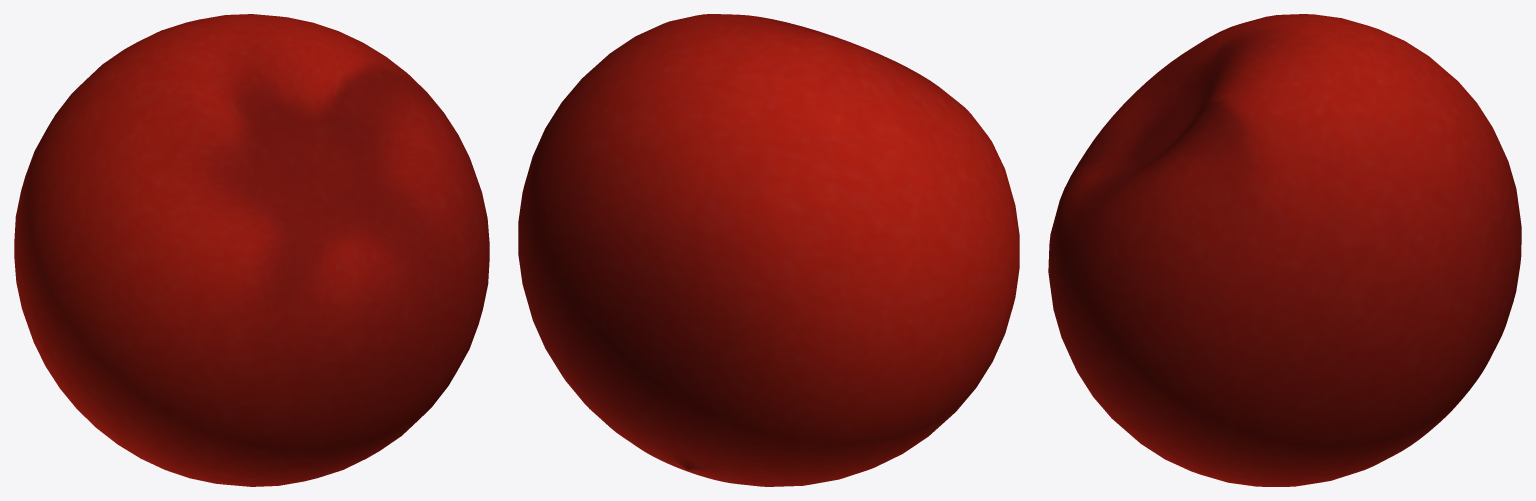
Rendered from tomato_04.obj.
3 renders of one model, left to right at view 1: azimuth 30°, elevation 25°; view 2: azimuth 150°, elevation 25°; view 3: azimuth 270°, elevation 25°, orthographic. The views are drawn at different scales.
Parts seen in each view (by area): view 1: tomato_04; view 2: tomato_04; view 3: tomato_04.
Boxes of the visible parts, <box> form: tomato_04: <box>14,14,489,486</box>; tomato_04: <box>518,14,1019,486</box>; tomato_04: <box>1048,14,1521,486</box>.
Size of the model in its own units: 3.49 by 3.38 by 3.4.
Materials: 1 (1 with a texture image).
